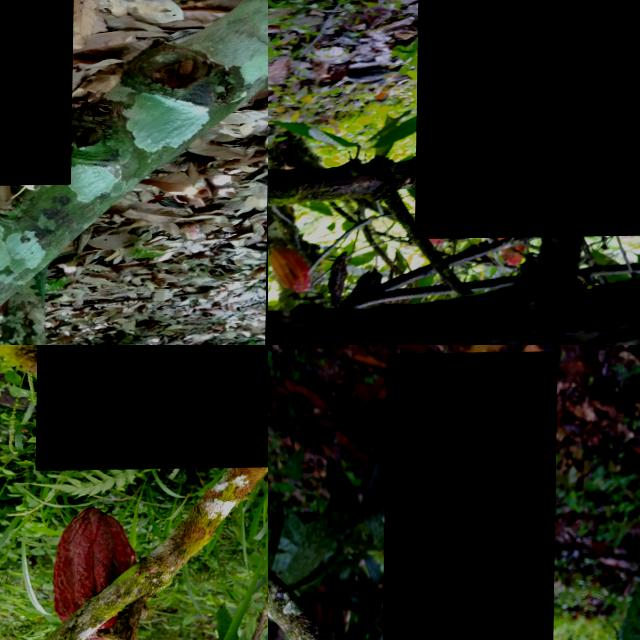Fitoftora: (416, 0, 640, 239), (36, 345, 268, 470), (0, 0, 75, 187)
Monilia: (381, 352, 557, 640)
Sana: (53, 508, 148, 640), (270, 244, 314, 294)
